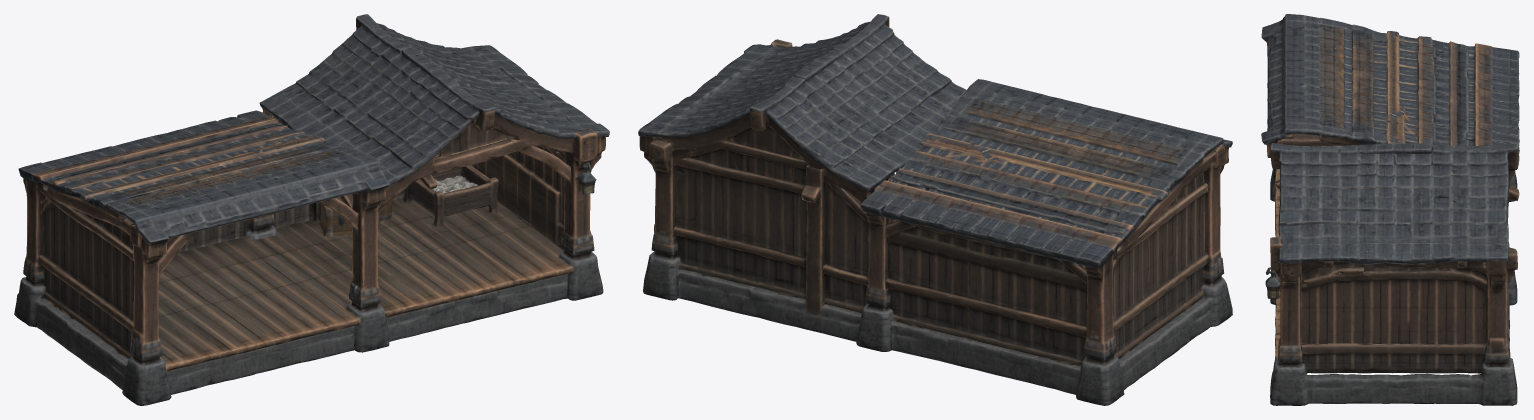
3 views of the same model, side by side, from view 1: azimuth 30°, elevation 25°; view 2: azimuth 150°, elevation 25°; view 3: azimuth 270°, elevation 25° (orthographic). The views are drawn at different scales.
Size of the model in its own units: 1 by 0.4298 by 0.487.
Materials: 1 (1 with a texture image).
